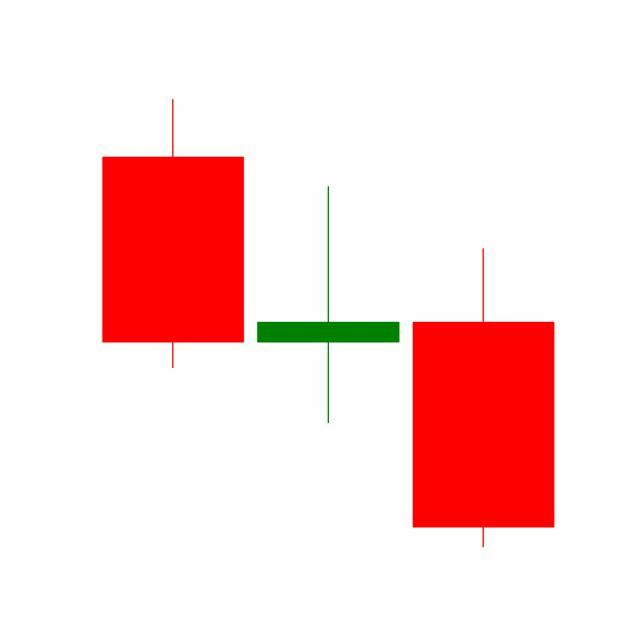Spinning Top: (250, 183, 407, 426)
